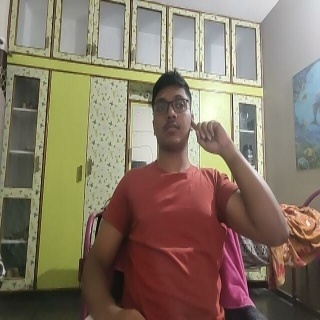Deaf: (191, 112, 234, 157)
Face: (150, 70, 196, 154)
